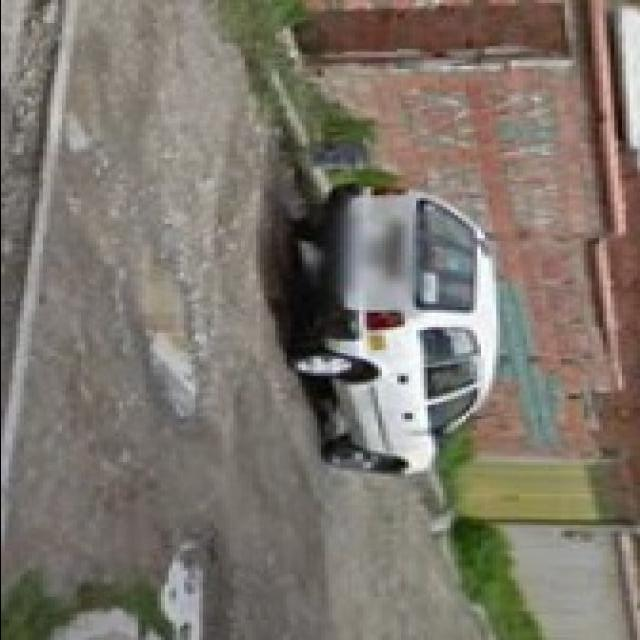car: (294, 185, 504, 477)
